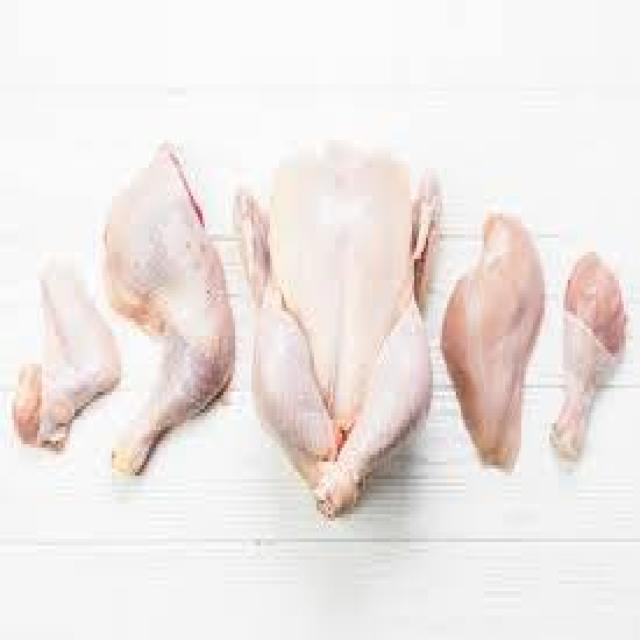chicken: (236, 134, 441, 518), (97, 135, 241, 479), (440, 211, 550, 475), (0, 251, 126, 456), (550, 250, 631, 467)
